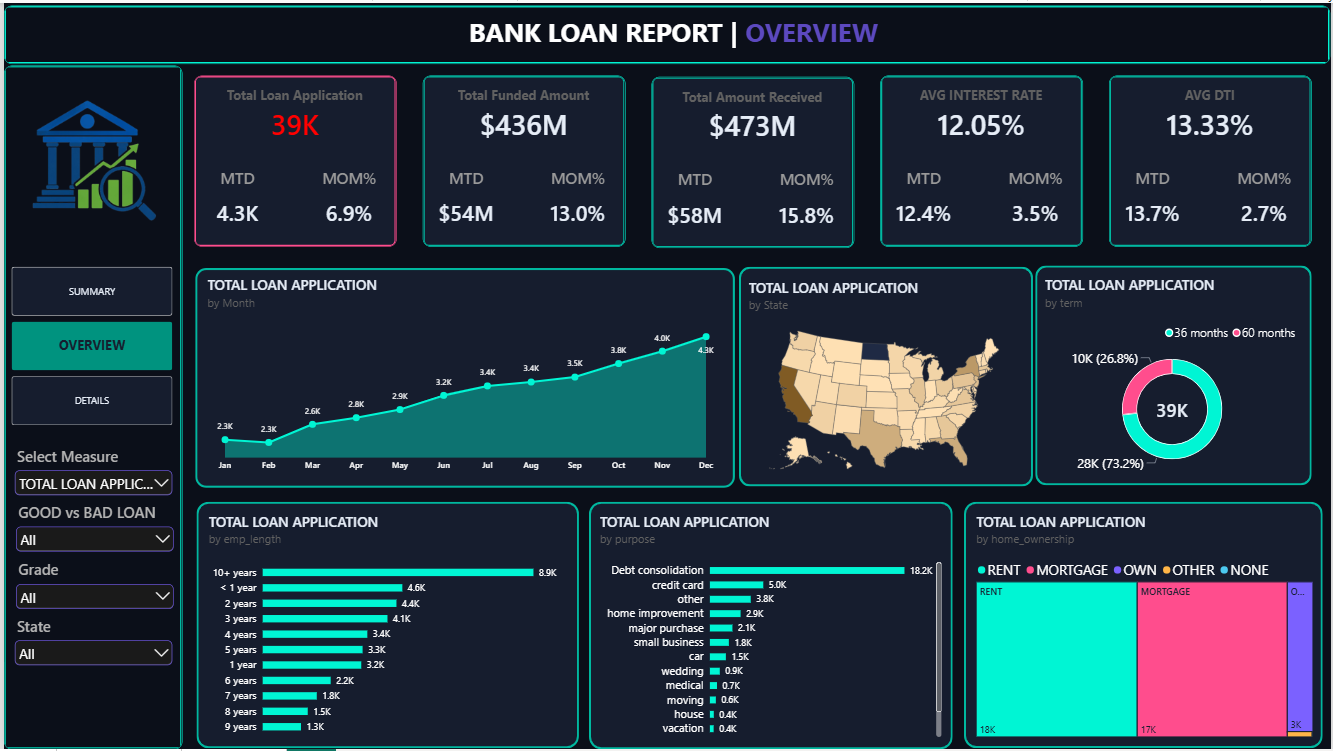

Layout of this report page (visuals, bound fields, positions):
{"tool":"powerbi","page":{"name":"OVERVIEW","canvas":[1920,1080],"ordinal":1},"visuals":[{"type":"group","id":"g1","title":"Group 4","box":[0,90,258,990],"z":0},{"type":"shape","box":[0,90,258,990],"z":0,"group":"g1"},{"type":"shape","box":[0,4,1920,85],"z":1000},{"type":"textbox","box":[673.3,16.7,623.3,51.7],"z":2000},{"type":"group","id":"g2","title":"Group 1","box":[275,105,293.3,248.3],"z":3000},{"type":"shape","box":[275,105,293.3,248.3],"z":3000,"group":"g2"},{"type":"shape","box":[606.2,105,293.3,248.3],"z":3000,"group":"g3"},{"type":"shape","box":[1268.8,105,293.3,248.3],"z":3000,"group":"g5"},{"type":"shape","box":[1600,105,293.3,248.3],"z":3000,"group":"g6"},{"type":"shape","box":[937.5,106.7,293.3,248.3],"z":3000,"group":"g4"},{"type":"group","id":"g3","title":"Group 1","box":[606.2,105,293.3,248.3],"z":4000},{"type":"group","id":"g4","title":"Group 1","box":[937.5,106.7,293.3,248.3],"z":5000},{"type":"cardVisual","fields":{"Data":["financial_loan_table.TOTAL LOAN APPLICATION"]},"box":[280,118.3,281.7,88.3],"z":5000,"group":"g2"},{"type":"cardVisual","fields":{"Data":["financial_loan_table.Total Funded Amount"]},"box":[611.2,118.3,281.7,88.3],"z":5000,"group":"g3"},{"type":"cardVisual","fields":{"Data":["financial_loan_table.AVG INT RATE"]},"box":[1273.8,118.3,281.7,88.3],"z":5000,"group":"g5"},{"type":"cardVisual","fields":{"Data":["financial_loan_table.AVG DTI"]},"box":[1605,118.3,281.7,88.3],"z":5000,"group":"g6"},{"type":"cardVisual","fields":{"Data":["financial_loan_table.Total Amount Received"]},"box":[942.5,120,281.7,88.3],"z":5000,"group":"g4"},{"type":"group","id":"g5","title":"Group 1","box":[1268.8,105,293.3,248.3],"z":6000},{"type":"cardVisual","title":"MTD","fields":{"Data":["financial_loan_table.MTD LOAN APPLICATIONS"]},"box":[280,230,115,95],"z":6000,"group":"g2"},{"type":"cardVisual","title":"MTD","fields":{"Data":["financial_loan_table.MTD Funded Amount"]},"box":[611.2,230,115,95],"z":6000,"group":"g3"},{"type":"cardVisual","title":"MTD","fields":{"Data":["financial_loan_table.MTD AVG INT RATE"]},"box":[1273.8,230,115,95],"z":6000,"group":"g5"},{"type":"cardVisual","title":"MTD","fields":{"Data":["financial_loan_table.MTD AVG DTI"]},"box":[1605,230,115,95],"z":6000,"group":"g6"},{"type":"cardVisual","title":"MTD","fields":{"Data":["financial_loan_table.MTD Payment"]},"box":[942.5,231.7,115,95],"z":6000,"group":"g4"},{"type":"group","id":"g6","title":"Group 1","box":[1600,105,293.3,248.3],"z":7000},{"type":"cardVisual","title":"MOM%","fields":{"Data":["financial_loan_table.MoM Loan Applications"]},"box":[438.3,230,123.3,95],"z":7000,"group":"g2"},{"type":"cardVisual","title":"MOM%","fields":{"Data":["financial_loan_table.MoM Funded Amount"]},"box":[769.5,230,123.3,95],"z":7000,"group":"g3"},{"type":"cardVisual","title":"MOM%","fields":{"Data":["financial_loan_table.MoM AVG INT RATE"]},"box":[1432.1,230,123.3,95],"z":7000,"group":"g5"},{"type":"cardVisual","title":"MOM%","fields":{"Data":["financial_loan_table.MoM AVG DTI"]},"box":[1763.3,230,123.3,95],"z":7000,"group":"g6"},{"type":"cardVisual","title":"MOM%","fields":{"Data":["financial_loan_table.MoM Payment"]},"box":[1100.8,231.7,123.3,95],"z":7000,"group":"g4"},{"type":"shape","box":[1064.9,381.5,425.6,318],"z":8000,"group":"g8"},{"type":"shape","box":[277,383.1,781.3,318.1],"z":8000,"group":"g7"},{"type":"group","id":"g7","title":"Group 2","box":[277,383.1,781.3,318.1],"z":8000},{"type":"shape","box":[278.7,722.1,553.8,358],"z":8000},{"type":"slicer","fields":{"Values":["financial_loan_table.GOOD vs BAD LOAN"]},"box":[13,722.8,238,82],"z":13000},{"type":"slicer","fields":{"Values":["financial_loan_table.address_state"]},"box":[10.8,887.3,238,82],"z":14000},{"type":"slicer","fields":{"Values":["financial_loan_table.grade"]},"box":[13,805.1,238,82],"z":15000},{"type":"areaChart","fields":{"Category":["DATE Table.Month"],"Y":["financial_loan_table.Total Loan Application"]},"box":[279.2,380.9,779.1,318.1],"z":16001},{"type":"slicer","fields":{"Values":["Select Measure.Select Measure"]},"box":[10.8,640.6,238,82],"z":16004},{"type":"group","id":"g8","title":"Group 2","box":[1064.9,381.5,425.6,318],"z":16005},{"type":"shapeMap","fields":{"Category":["financial_loan_table.address_state"],"Value":["financial_loan_table.Total Loan Application"]},"box":[1062.6,383.1,424.2,318.1],"z":16006},{"type":"shape","box":[1493.3,380.9,400.4,318.1],"z":16007},{"type":"donutChart","fields":{"Category":["financial_loan_table.term"],"Y":["financial_loan_table.Total Loan Application"]},"box":[1491.1,380.9,400,318],"z":16008},{"type":"shape","box":[846.9,722.1,526.6,358.3],"z":16009},{"type":"barChart","fields":{"Category":["financial_loan_table.emp_length"],"Y":["financial_loan_table.Total Loan Application"]},"box":[280.5,722.1,551.9,356.5],"z":16010},{"type":"barChart","fields":{"Category":["financial_loan_table.purpose"],"Y":["financial_loan_table.Total Loan Application"]},"box":[846.9,722.1,526.6,356.5],"z":16011},{"type":"shape","box":[1389.8,722.1,519.4,356.5],"z":16012},{"type":"treemap","fields":{"Group":["financial_loan_table.home_ownership"],"Values":["financial_loan_table.Total Loan Application"]},"box":[1391.6,722.1,519.4,356.5],"z":16013},{"type":"pageNavigator","box":[10.9,381.8,233.4,229.8],"z":16014},{"type":"image","box":[16.3,112.2,222.6,233.4],"z":16015}]}

Visuals, with their boxes in screenshot pixels (x1, y1, x2, y2), scaled from the page's 1920x1080 canvas onto the 1333x751 screenshot:
"Group 4" group: 0:63:179:750
shape: 0:63:179:750
shape: 0:3:1332:62
textbox: 467:12:900:48
"Group 1" group: 191:73:395:246
shape: 191:73:395:246
shape: 421:73:624:246
shape: 881:73:1085:246
shape: 1111:73:1314:246
shape: 651:74:855:247
"Group 1" group: 421:73:624:246
"Group 1" group: 651:74:855:247
cardVisual - financial_loan_table.TOTAL LOAN APPLICATION: 194:82:390:144
cardVisual - financial_loan_table.Total Funded Amount: 424:82:620:144
cardVisual - financial_loan_table.AVG INT RATE: 884:82:1080:144
cardVisual - financial_loan_table.AVG DTI: 1114:82:1310:144
cardVisual - financial_loan_table.Total Amount Received: 654:83:850:145
"Group 1" group: 881:73:1085:246
"MTD" cardVisual: 194:160:274:226
"MTD" cardVisual: 424:160:504:226
"MTD" cardVisual: 884:160:964:226
"MTD" cardVisual: 1114:160:1194:226
"MTD" cardVisual: 654:161:734:227
"Group 1" group: 1111:73:1314:246
"MOM%" cardVisual: 304:160:390:226
"MOM%" cardVisual: 534:160:620:226
"MOM%" cardVisual: 994:160:1080:226
"MOM%" cardVisual: 1224:160:1310:226
"MOM%" cardVisual: 764:161:850:227
shape: 739:265:1035:486
shape: 192:266:735:488
"Group 2" group: 192:266:735:488
shape: 193:502:578:750
slicer - financial_loan_table.GOOD vs BAD LOAN: 9:503:174:560
slicer - financial_loan_table.address_state: 7:617:173:674
slicer - financial_loan_table.grade: 9:560:174:617
areaChart - DATE Table.Month x financial_loan_table.Total Loan Application: 194:265:735:486
slicer - Select Measure.Select Measure: 7:445:173:502
"Group 2" group: 739:265:1035:486
shapeMap - financial_loan_table.address_state x financial_loan_table.Total Loan Application: 738:266:1032:488
shape: 1037:265:1315:486
donutChart - financial_loan_table.term x financial_loan_table.Total Loan Application: 1035:265:1313:486
shape: 588:502:954:750
barChart - financial_loan_table.emp_length x financial_loan_table.Total Loan Application: 195:502:578:750
barChart - financial_loan_table.purpose x financial_loan_table.Total Loan Application: 588:502:954:750
shape: 965:502:1326:750
treemap - financial_loan_table.home_ownership x financial_loan_table.Total Loan Application: 966:502:1327:750
pageNavigator: 8:265:170:425
image: 11:78:166:240
